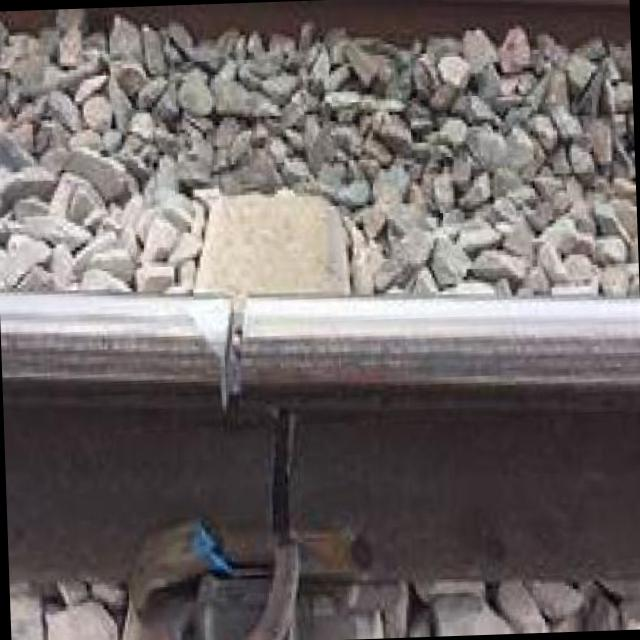defective: (0, 160, 530, 640)
